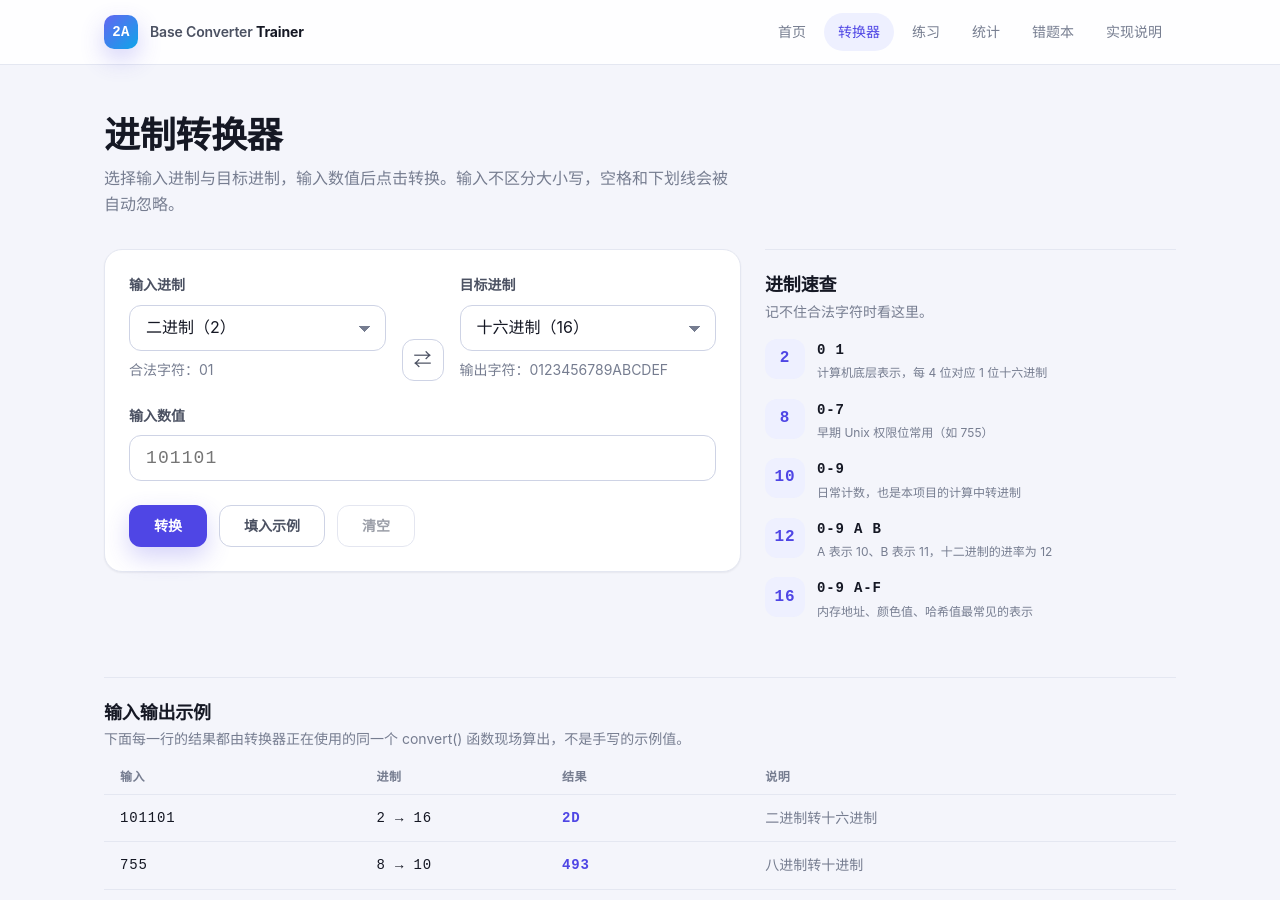
Scenario: 转换页 · 错误处理 › 空输入时提示用户填写内容
The image size is (1280, 900).
Step 1. Click the button "转换" → (168, 526), box [129, 505, 207, 547]
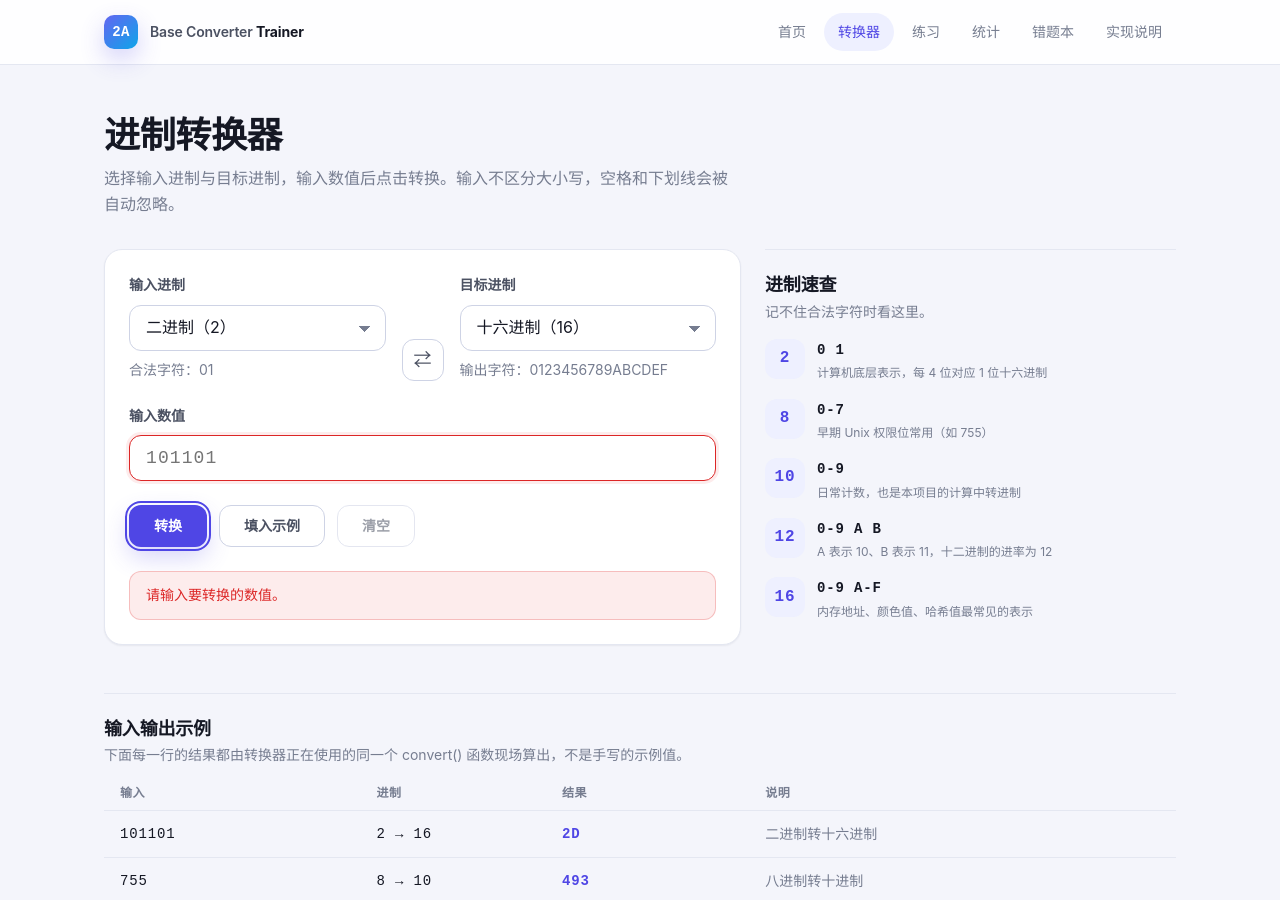
Expected: the message shows "请输入要转换的数值", [146, 586, 286, 603]
